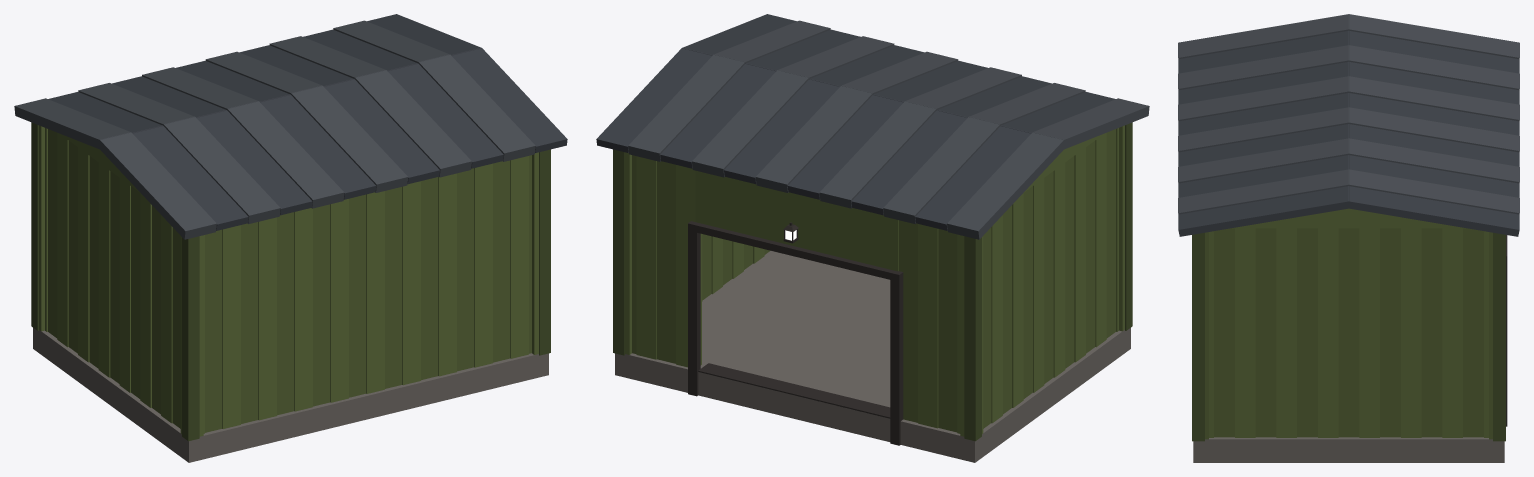
Rendered from Warehouse.glb.
3 renders of one model, left to right at view 1: azimuth 30°, elevation 25°; view 2: azimuth 150°, elevation 25°; view 3: azimuth 270°, elevation 25°, orthographic.
Visible parts, largest first — view 1: Body, Roof; view 2: Body, Roof; view 3: Body, Roof.
Boxes of the visible parts, left/top/right/bottom form: Body: left=31, top=122, right=550, bottom=462; Roof: left=14, top=14, right=567, bottom=239; Body: left=613, top=122, right=1132, bottom=462; Roof: left=596, top=14, right=1149, bottom=239; Body: left=1192, top=208, right=1507, bottom=462; Roof: left=1178, top=14, right=1519, bottom=236.
Size of what is drawn, in the model's own units: 16.98 by 11.41 by 13.17.
